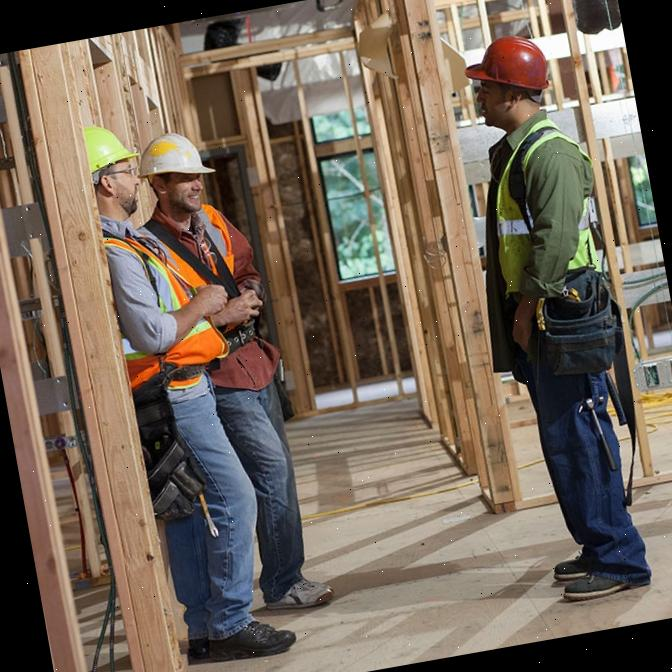helmet: (461, 31, 554, 104), (132, 123, 218, 188), (78, 119, 142, 181)
wear: (472, 120, 622, 377), (96, 211, 214, 400), (153, 206, 272, 377)
